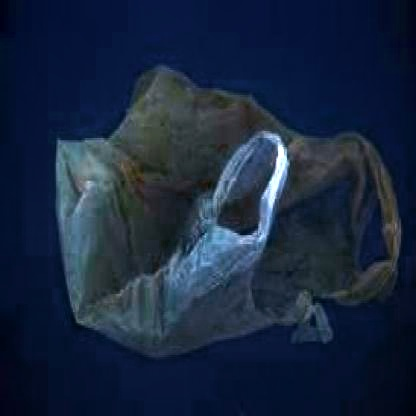pbag: (53, 61, 404, 362)
